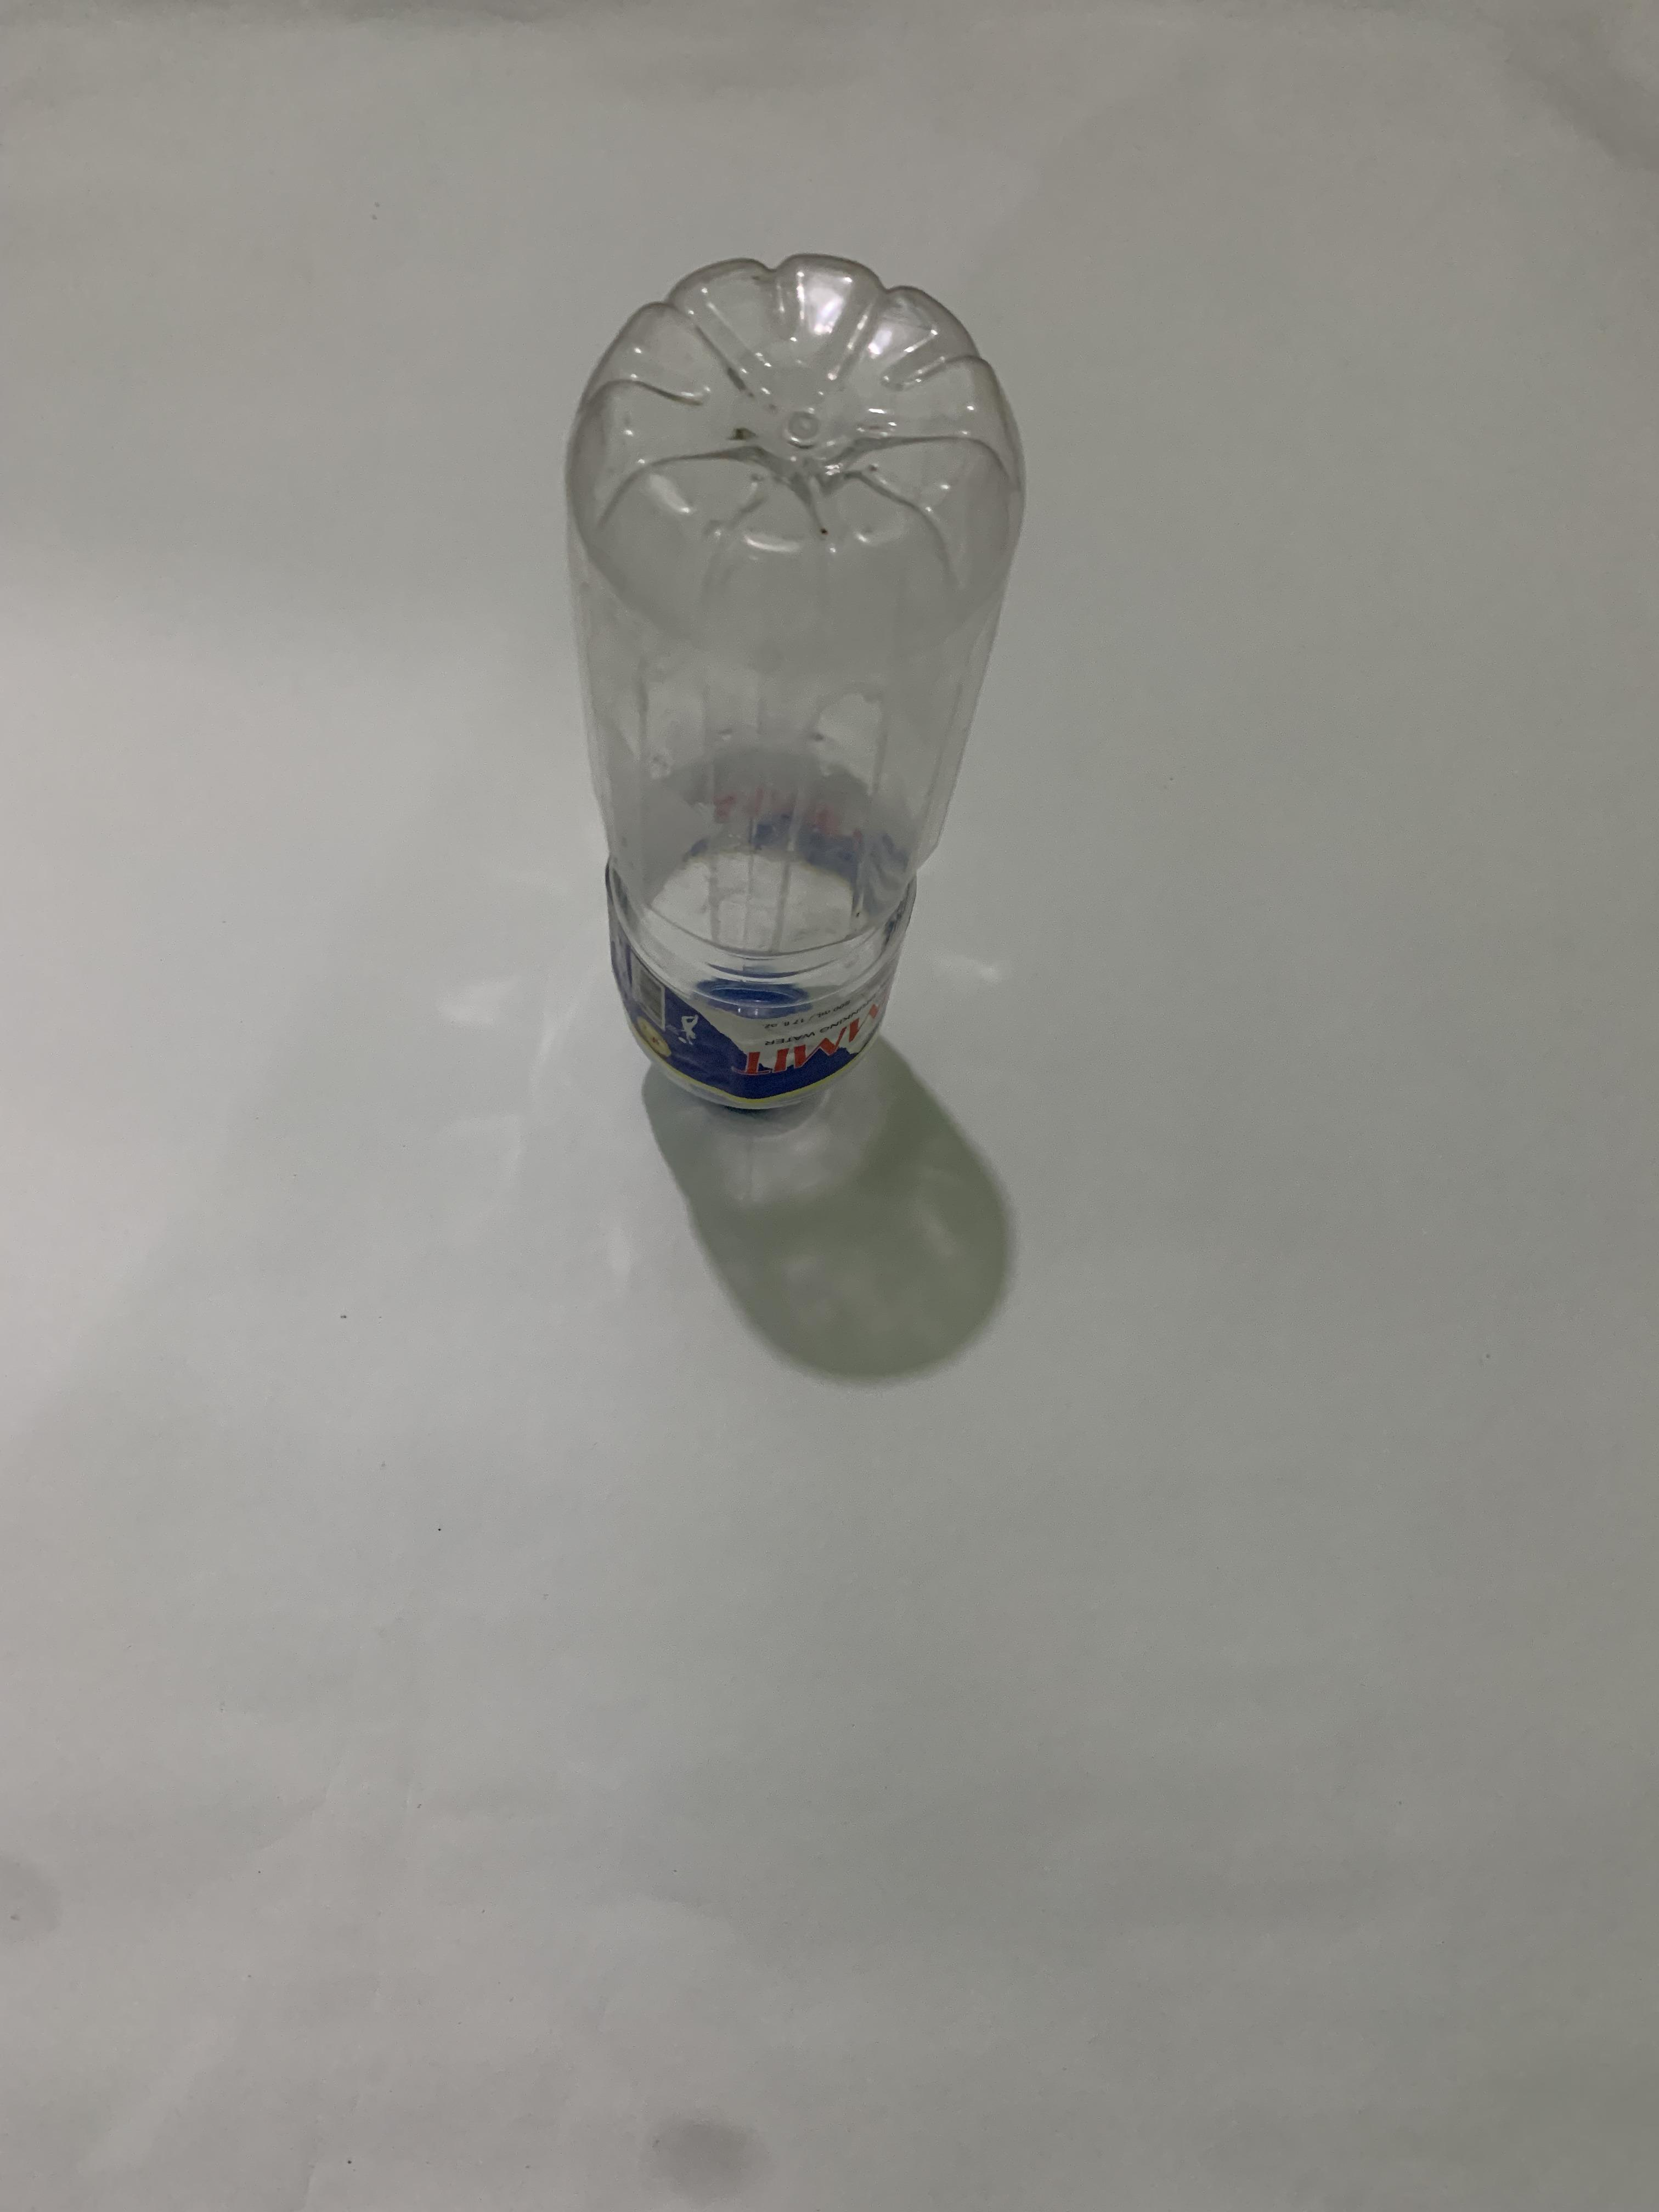bottle: (554, 235, 1037, 1130)
